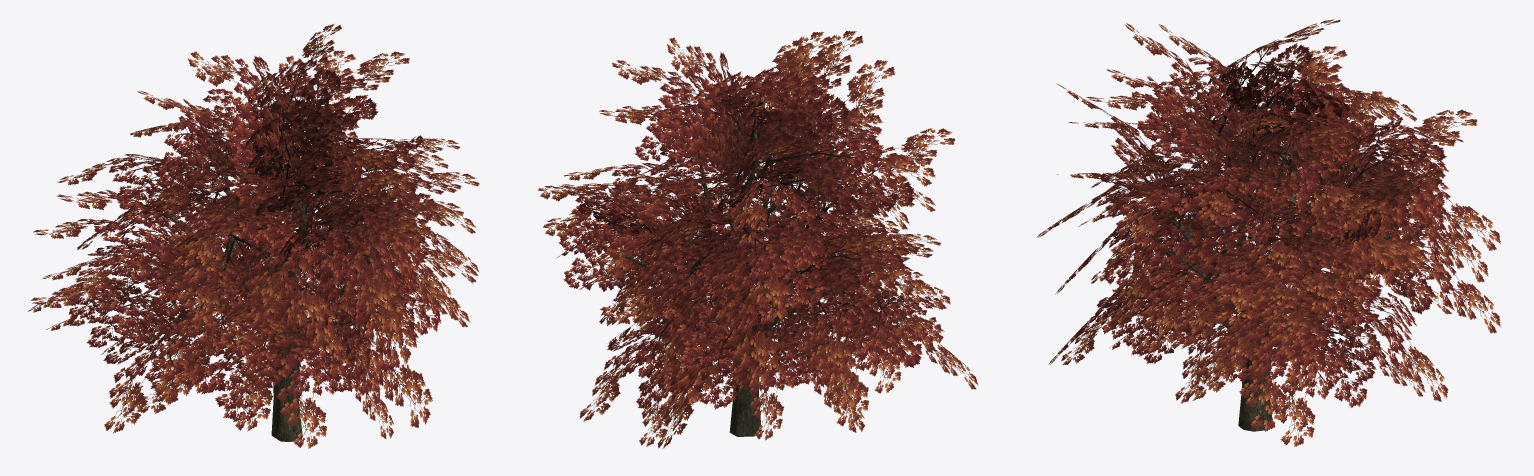
File: tree_l.FBX
3 renders of one model, left to right at view 1: azimuth 30°, elevation 25°; view 2: azimuth 150°, elevation 25°; view 3: azimuth 270°, elevation 25°, orthographic. The views are drawn at different scales.
Visible parts, largest first — view 1: tree_l; view 2: tree_l; view 3: tree_l.
Boxes of the visible parts, bbox=[...] form: tree_l: bbox=[28, 24, 479, 448]; tree_l: bbox=[538, 30, 978, 448]; tree_l: bbox=[1036, 19, 1500, 446].
Size of the model in its own units: 22.6 by 18.53 by 21.
Materials: 1 (1 with a texture image).
